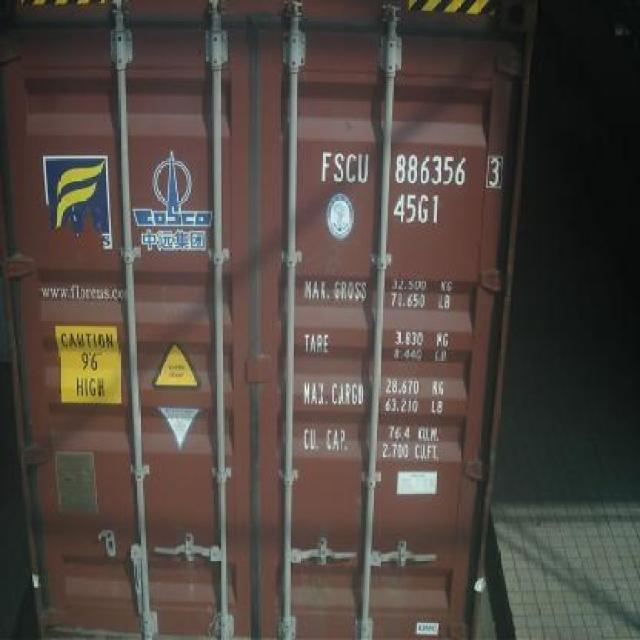ISO: (393, 192, 442, 225)
container_number: (312, 149, 499, 187)
